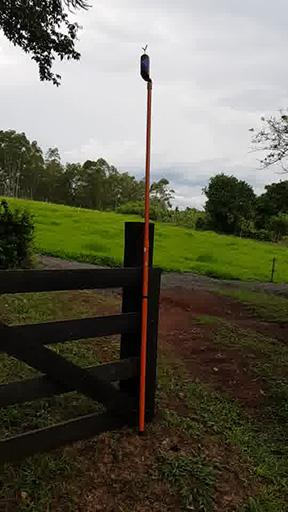Detector_Tensao_Contato: (141, 44, 151, 84)
Vara_Manobra: (138, 82, 153, 431)
